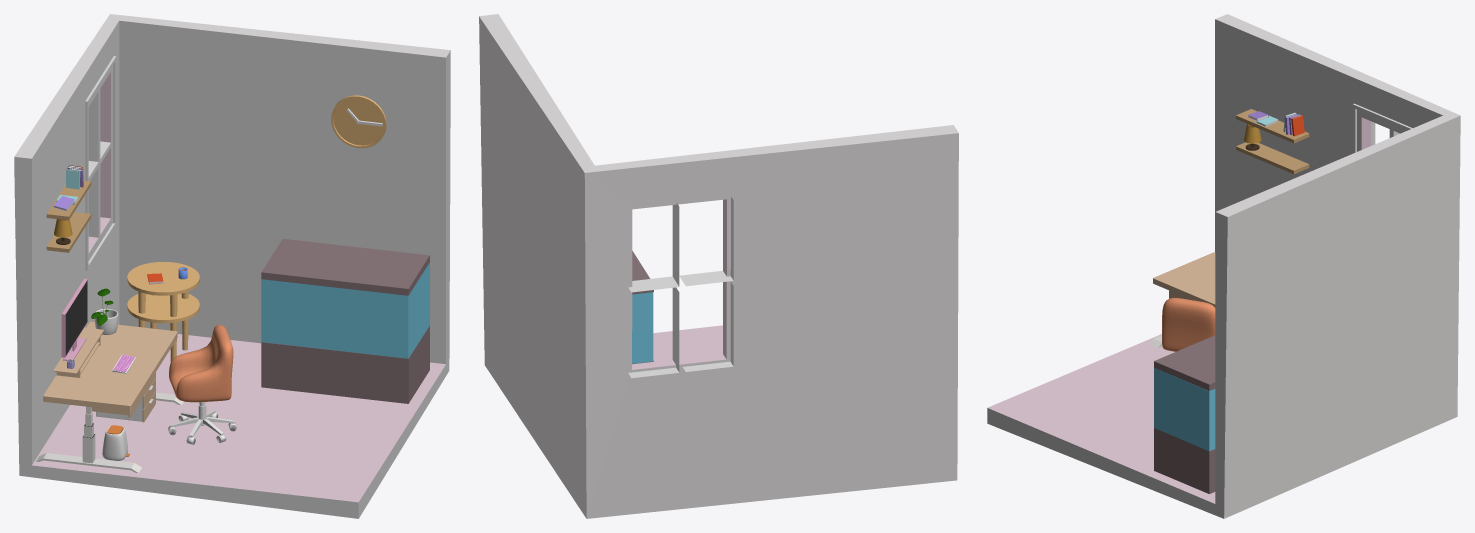
File: final-room.glb
3 views of the same model, side by side, from view 1: azimuth 30°, elevation 25°; view 2: azimuth 150°, elevation 25°; view 3: azimuth 270°, elevation 25° (orthographic). The views are drawn at different scales.
Visible parts, largest first — view 1: Room, Cube.020, Cube.021, Table top, Plane, Cube.013, Cylinder.006, Cylinder.003, Cylinder.004, Table top holder, Table leg holder, Screen (+6 smaller); view 2: Room, Plane, Cube.021; view 3: Room, Cube.020, Cube.021, Cube.013, Table top, Plane, Cube.006, Cube.005.
Part boxes in pixels (x1,y1,x2,y2): Room: (14,14,450,518); Cube.020: (261,238,429,403); Cube.021: (261,262,429,358); Table top: (43,321,177,411); Plane: (85,56,116,270); Cube.013: (169,324,233,402); Cylinder.006: (331,95,386,148); Cylinder.003: (127,262,199,295); Cylinder.004: (127,294,199,323); Table top holder: (53,327,103,377); Table leg holder: (36,392,183,472); Screen: (65,281,87,355); Room: (479,14,958,518); Plane: (628,197,733,378); Cube.021: (632,292,653,363); Room: (987,14,1460,518); Cube.020: (1154,335,1215,493); Cube.021: (1154,368,1215,451); Cube.013: (1162,297,1215,351); Table top: (1153,252,1215,307); Plane: (1352,103,1412,153); Cube.006: (1236,142,1309,174); Cube.005: (1236,109,1309,143).
Bounding box in the file's own units: 13.25 × 9.37 × 13.05.
